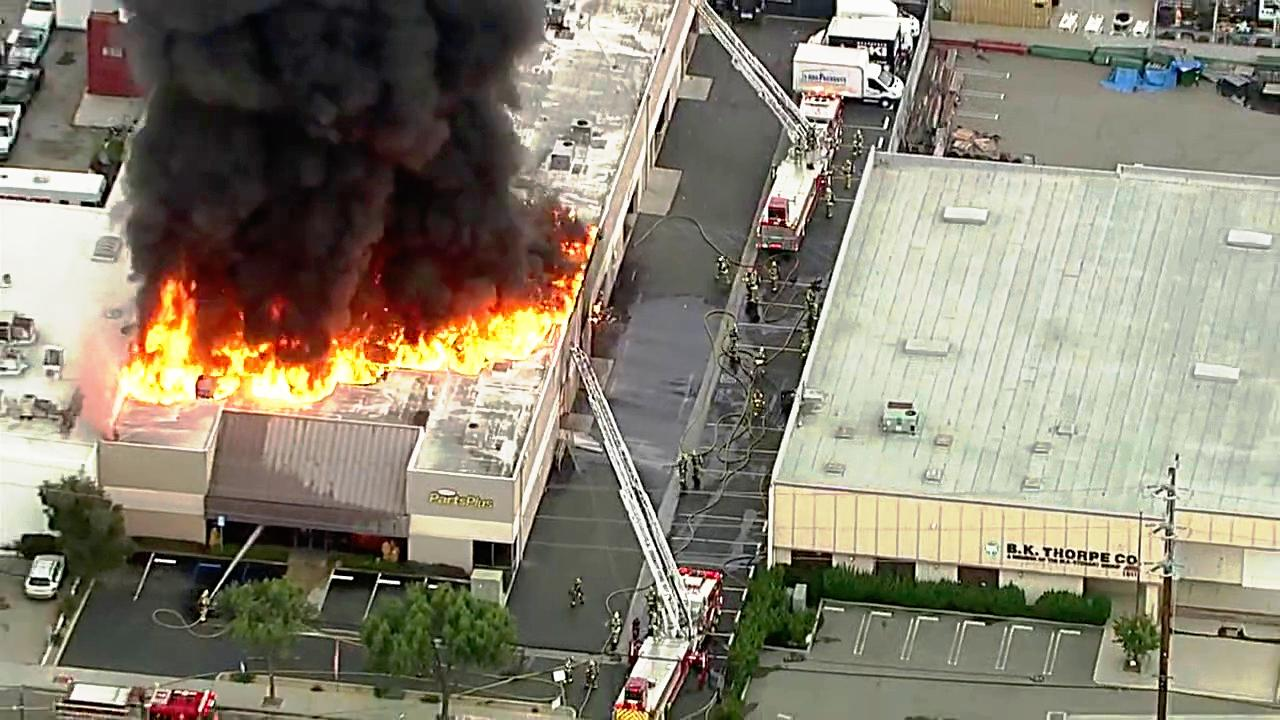fire: (297, 309, 554, 384), (117, 289, 214, 407), (230, 337, 304, 418)
smoke: (142, 0, 500, 270)
